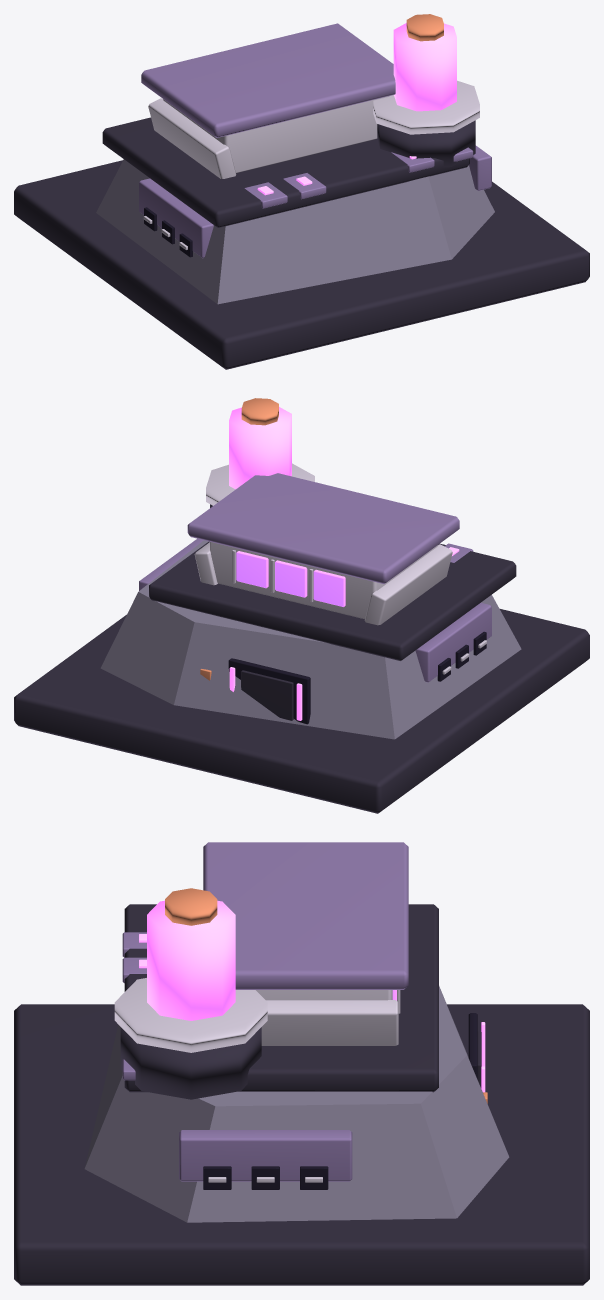
File: vesper-research-center.glb
3 renders of one model, top to bottom at view 1: azimuth 30°, elevation 25°; view 2: azimuth 150°, elevation 25°; view 3: azimuth 270°, elevation 25°, orthographic. The views are drawn at different scales.
Visible parts, largest first — view 1: Vesper laboratory skid, Main research shell, Armored canopy, Observation chamber frame, Suspended violet core, Core crown, Cooling vent recess; view 2: Vesper laboratory skid, Main research shell, Armored canopy, Observation chamber frame, Suspended violet core, Violet observation glazing, Cooling vent recess, Core crown; view 3: Vesper laboratory skid, Main research shell, Armored canopy, Observation chamber frame, Suspended violet core, Cooling vent recess, Core crown.
Part boxes in pixels (x1,y1,x2,y2): Vesper laboratory skid: [14, 117, 589, 369]; Main research shell: [96, 159, 494, 304]; Armored canopy: [139, 23, 491, 258]; Observation chamber frame: [143, 80, 479, 249]; Suspended violet core: [257, 23, 456, 195]; Core crown: [406, 14, 443, 41]; Cooling vent recess: [144, 207, 192, 257]; Vesper laboratory skid: [14, 504, 589, 813]; Main research shell: [100, 540, 521, 739]; Armored canopy: [139, 473, 491, 682]; Observation chamber frame: [194, 463, 486, 674]; Suspended violet core: [229, 407, 459, 720]; Violet observation glazing: [236, 551, 345, 606]; Cooling vent recess: [228, 631, 486, 724]; Core crown: [200, 398, 278, 680]; Vesper laboratory skid: [14, 904, 589, 1285]; Main research shell: [84, 986, 509, 1222]; Armored canopy: [122, 842, 408, 1181]; Observation chamber frame: [114, 978, 400, 1182]; Suspended violet core: [139, 900, 485, 1092]; Cooling vent recess: [203, 1013, 477, 1189]; Core crown: [165, 888, 487, 1103].
Size of the model in its own units: 2.86 by 1.77 by 2.86.
